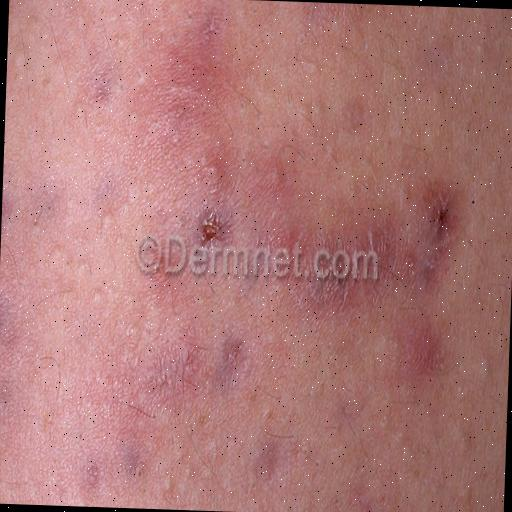Skin_Lesion: (116, 34, 238, 198), (282, 200, 392, 330), (146, 322, 254, 428), (74, 438, 146, 490), (418, 177, 462, 258), (190, 200, 236, 268), (410, 318, 444, 390)
